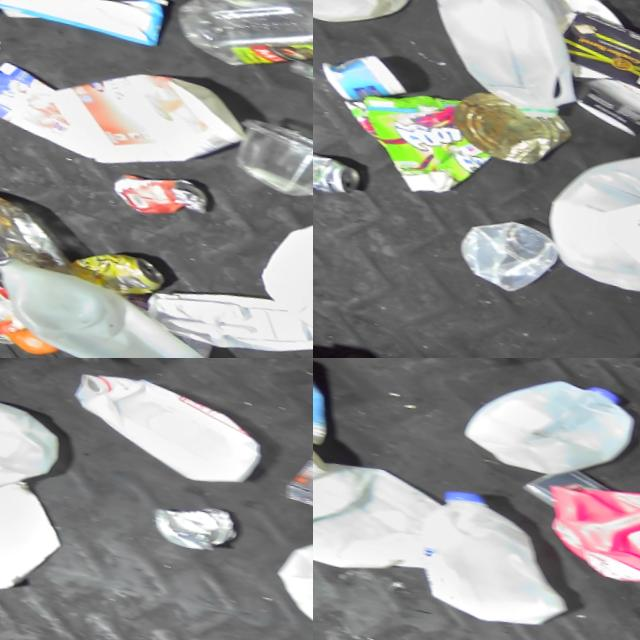can: (453, 82, 567, 168), (111, 159, 208, 221), (72, 239, 170, 297), (313, 137, 357, 196)
milk_jug: (60, 358, 261, 488), (417, 483, 582, 637), (0, 244, 211, 358), (455, 358, 627, 486), (418, 0, 592, 118), (539, 110, 640, 299), (248, 180, 313, 353), (447, 202, 551, 287), (0, 383, 59, 521)
non_white_jug: (44, 48, 247, 180), (542, 466, 640, 588)
plastic_bottle: (176, 0, 313, 94)
